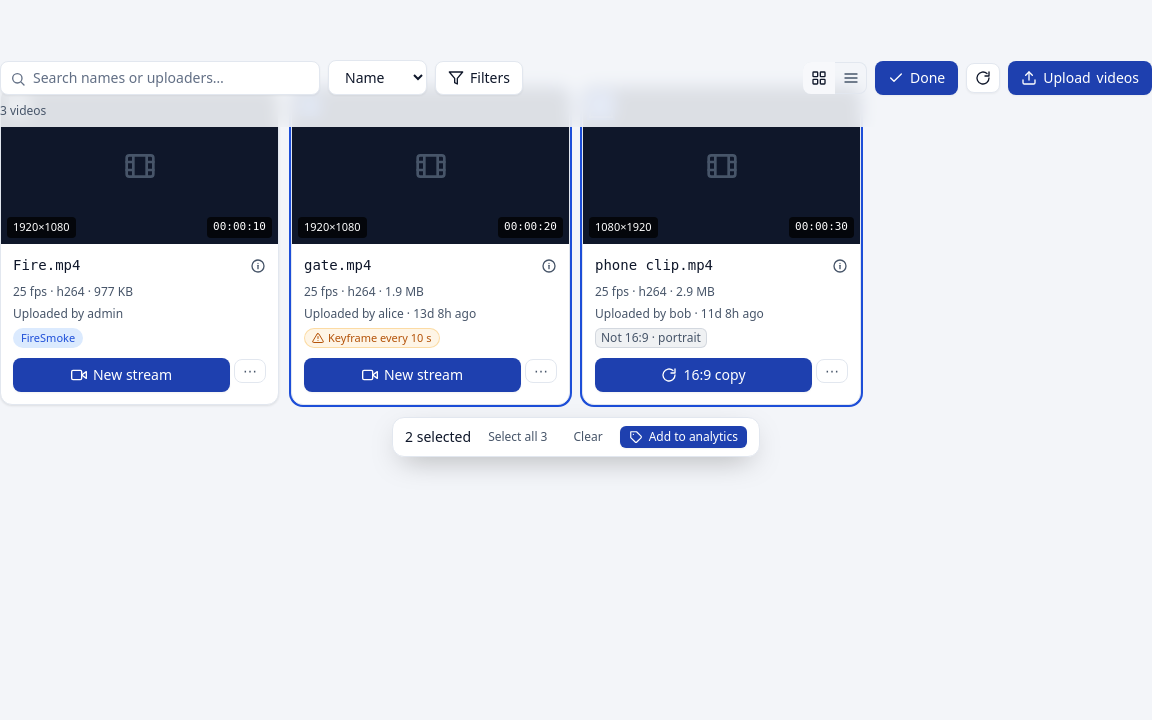
VideoLibrary › selects several videos and adds them to analytics together
Earlier steps of the test are not shown.
Expected: the element with test id "selection-bar" shows "2 selected", [392,417,760,457]
Click the button "Select all 3". click: (518, 437)
box: [479,426,556,448]
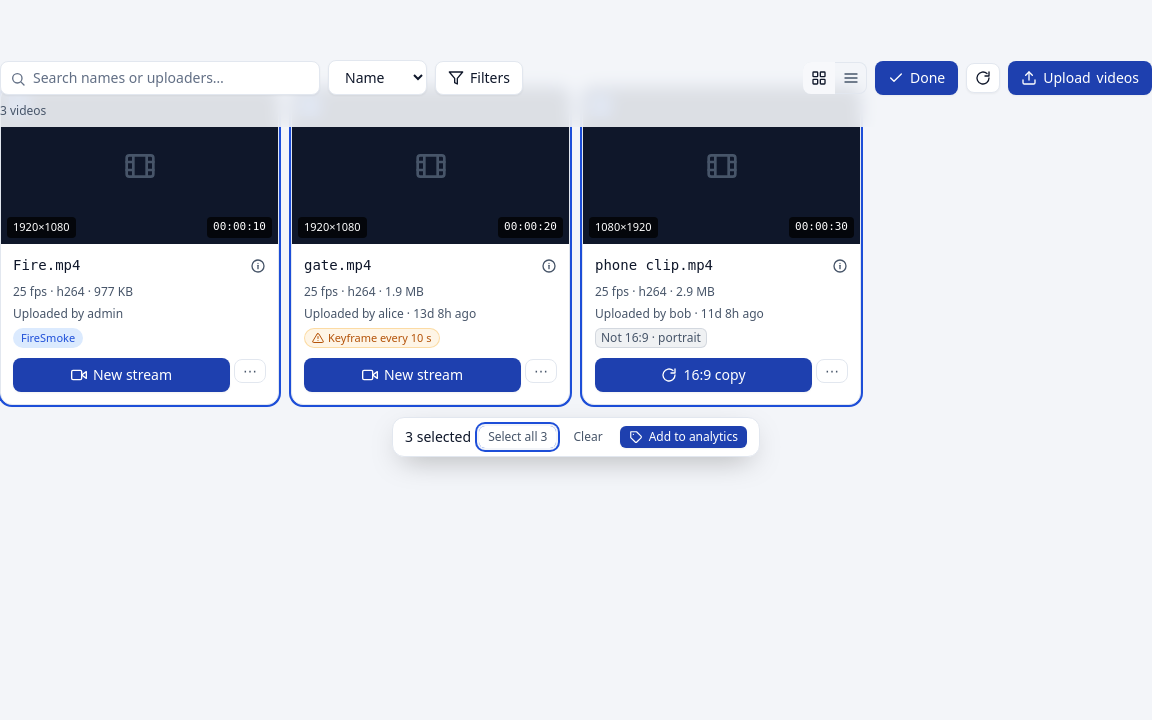
Expected: the element with test id "selection-bar" shows "3 selected", [392,417,760,457]
Click the button "Add to analytics". click: (683, 437)
box: [620,426,747,448]
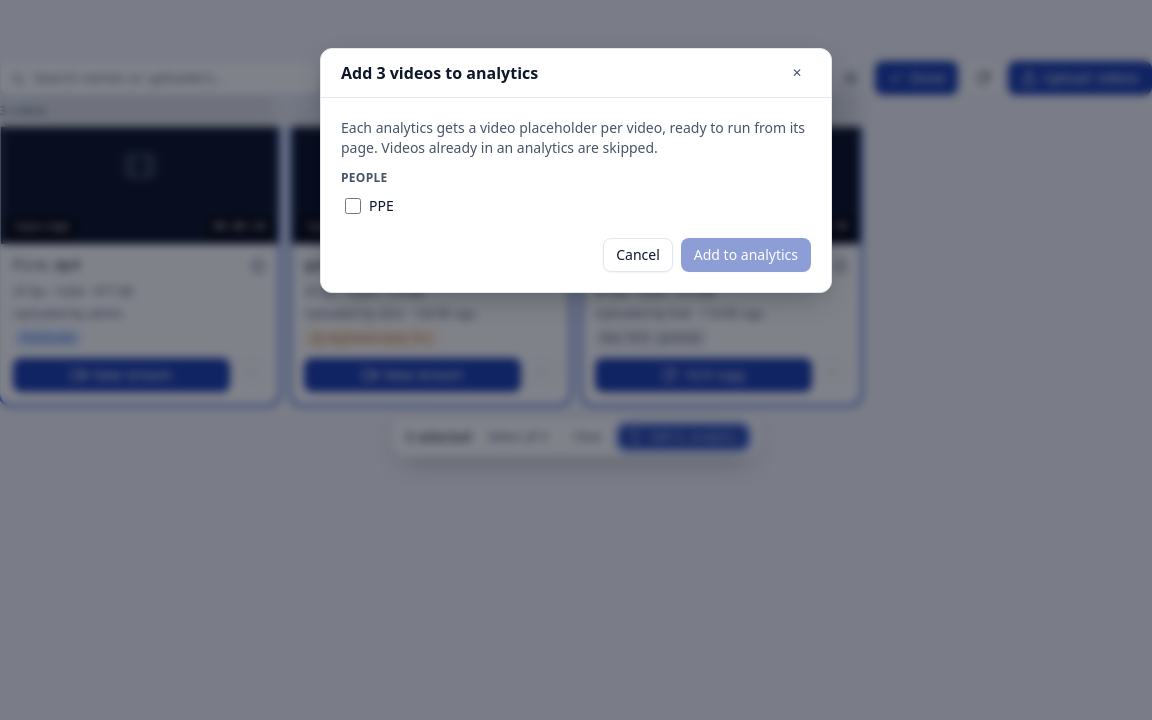
Expected: the dialog "Add 3 videos to analytics" is shown, [320,48,832,293]
Click the checkbox labelled "PPE". click: (353, 206)
box: [345,198,361,214]
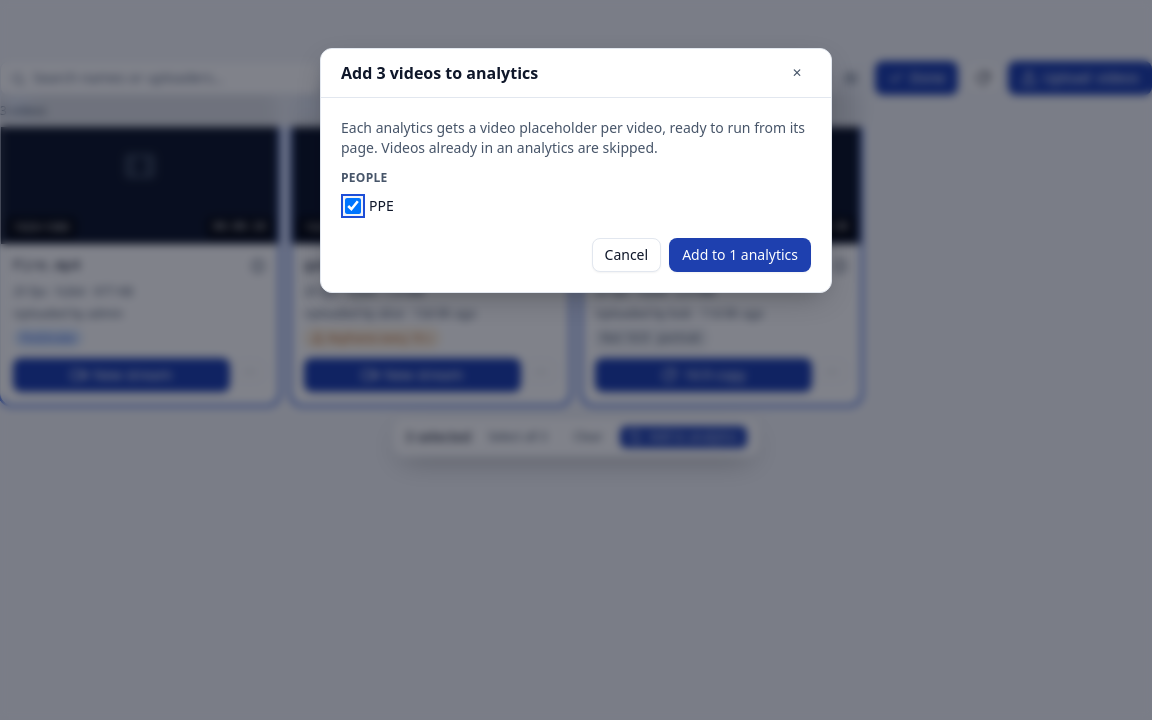
Click the button "Add to 1 analytics". click: (740, 255)
box: [669,238,811,272]
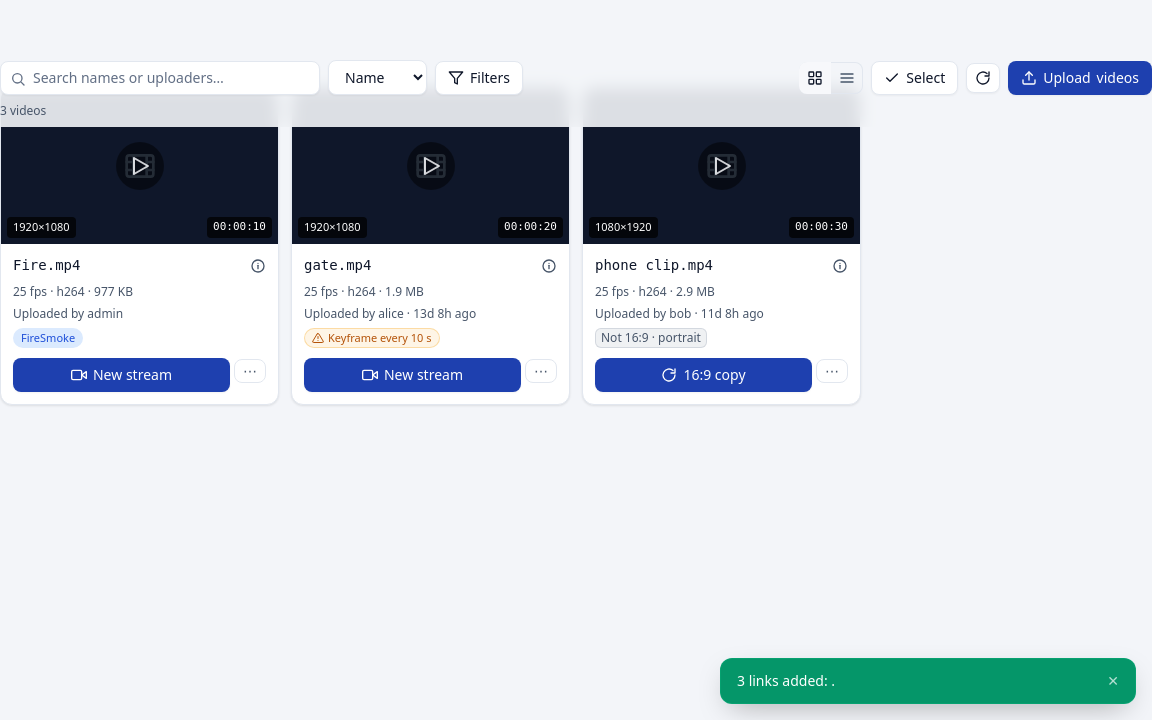
Expected: the element with test id "selection-bar" is gone
